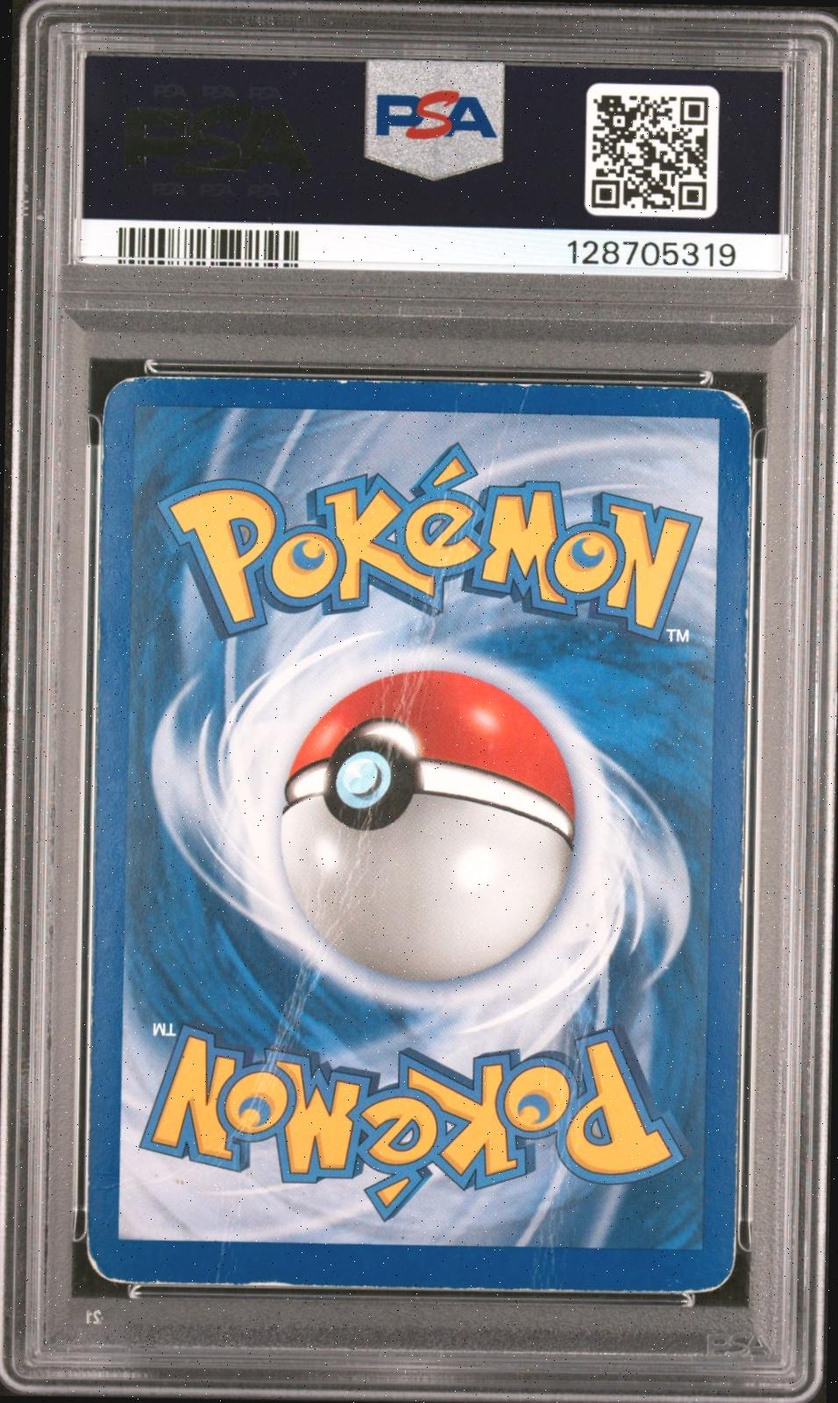card-2UtV: (85, 375, 751, 1294)
